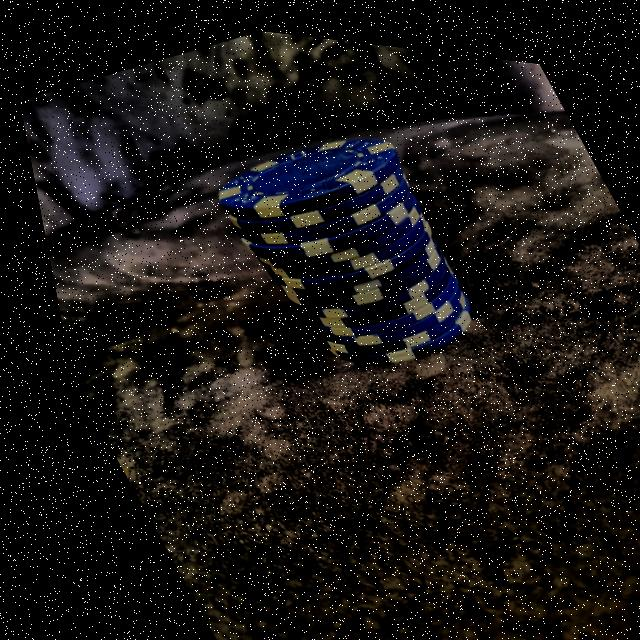Chip: (164, 74, 512, 412)
